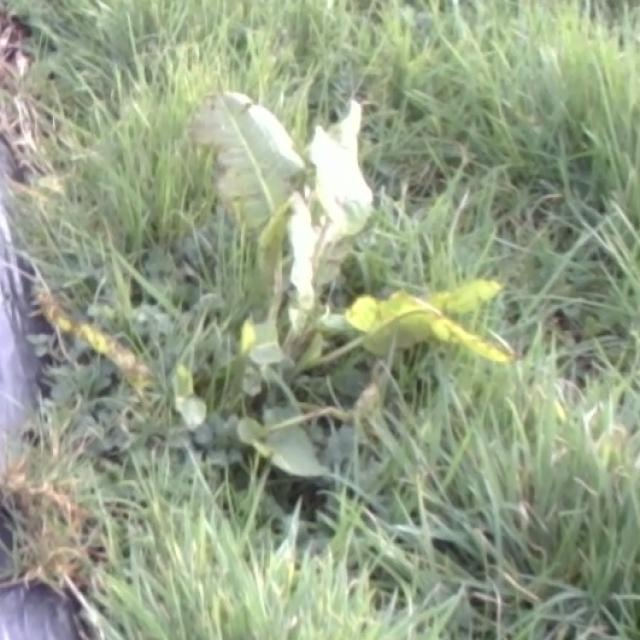organic waste: (131, 96, 522, 505)
